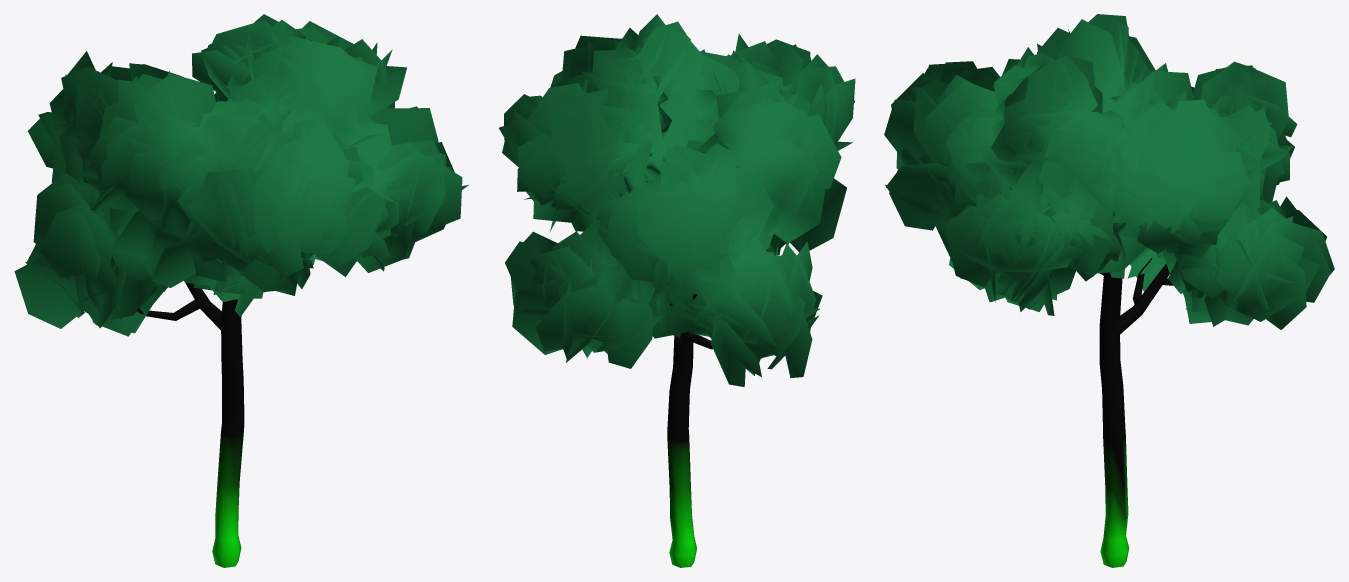
File: SM_BirchTreeB1.fbx
The picture shows the model from 3 angles, left to right: view 1: azimuth 30°, elevation 25°; view 2: azimuth 150°, elevation 25°; view 3: azimuth 270°, elevation 25°; orthographic projection. The views are drawn at different scales.
Visible parts, largest first — view 1: SM_BirchTreeB1_LOD0; view 2: SM_BirchTreeB1_LOD0; view 3: SM_BirchTreeB1_LOD0.
Part boxes in pixels (x1,y1,x2,y2): SM_BirchTreeB1_LOD0: (14,14,468,567); SM_BirchTreeB1_LOD0: (499,14,855,567); SM_BirchTreeB1_LOD0: (884,14,1334,567).
Size of what is drawn, in the model's own units: 1428 by 2034 by 1574.
